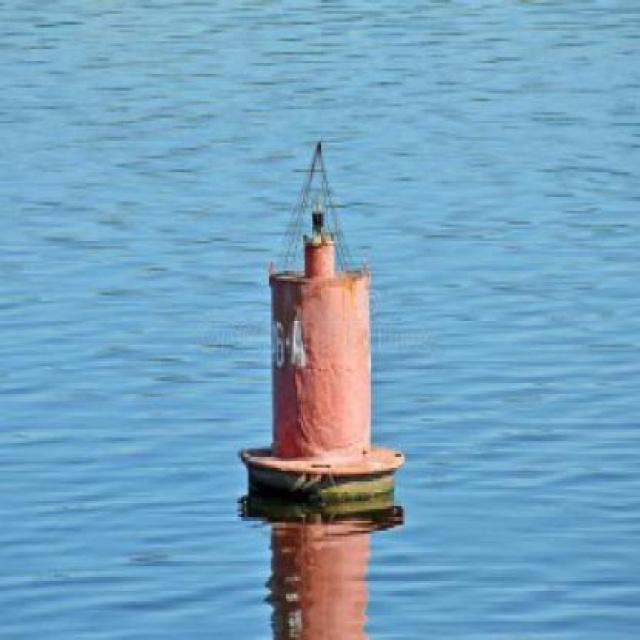buoy: (233, 124, 410, 529)
